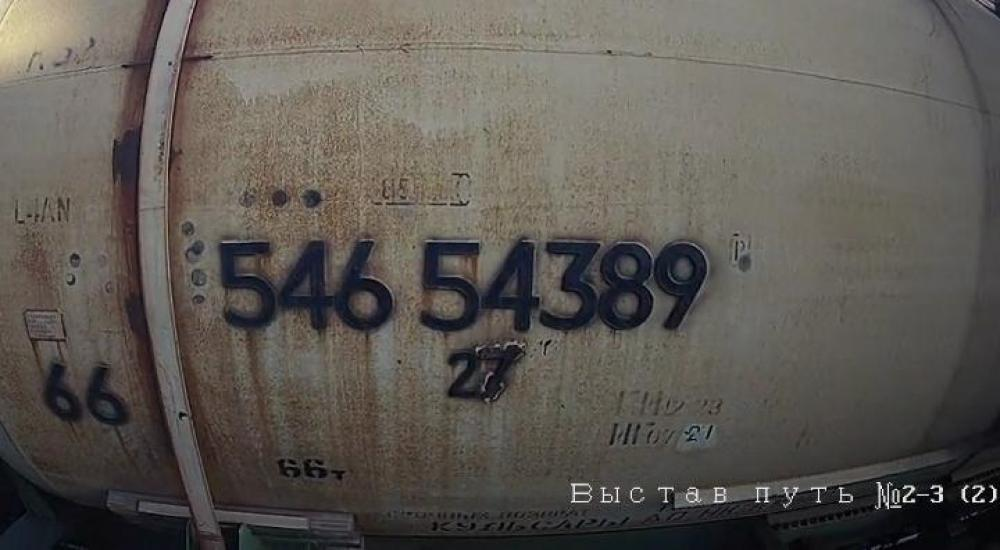Wagon-number: (214, 233, 712, 339)
